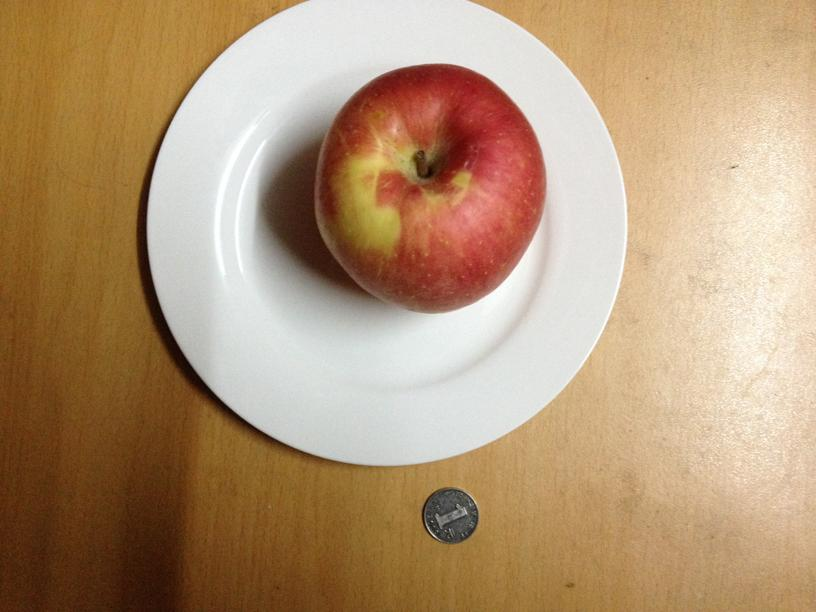apple: (320, 57, 545, 314)
coin: (420, 485, 479, 543)
